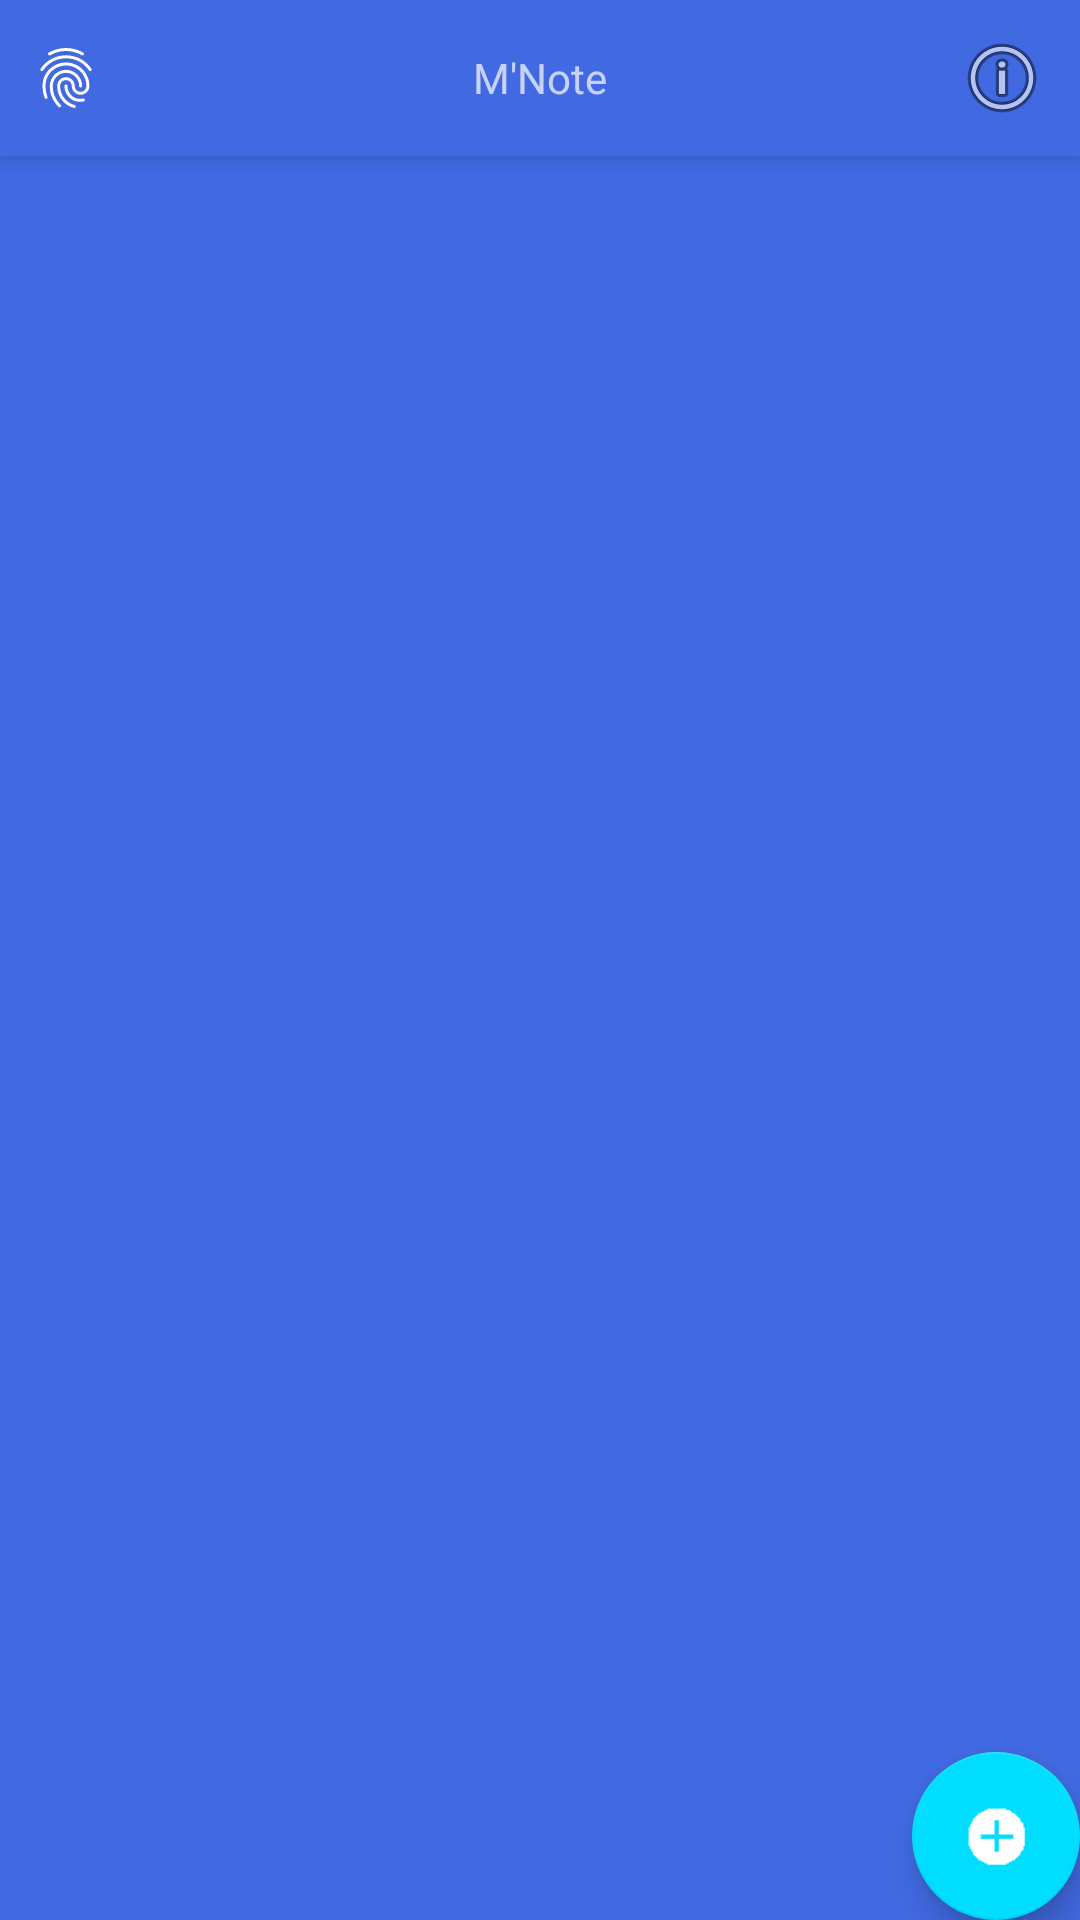

Screen size 1080 × 1920. Icon name, then its box in pixels as [x1,y1,x2,y2]:
info details: [967,43,1037,113]
